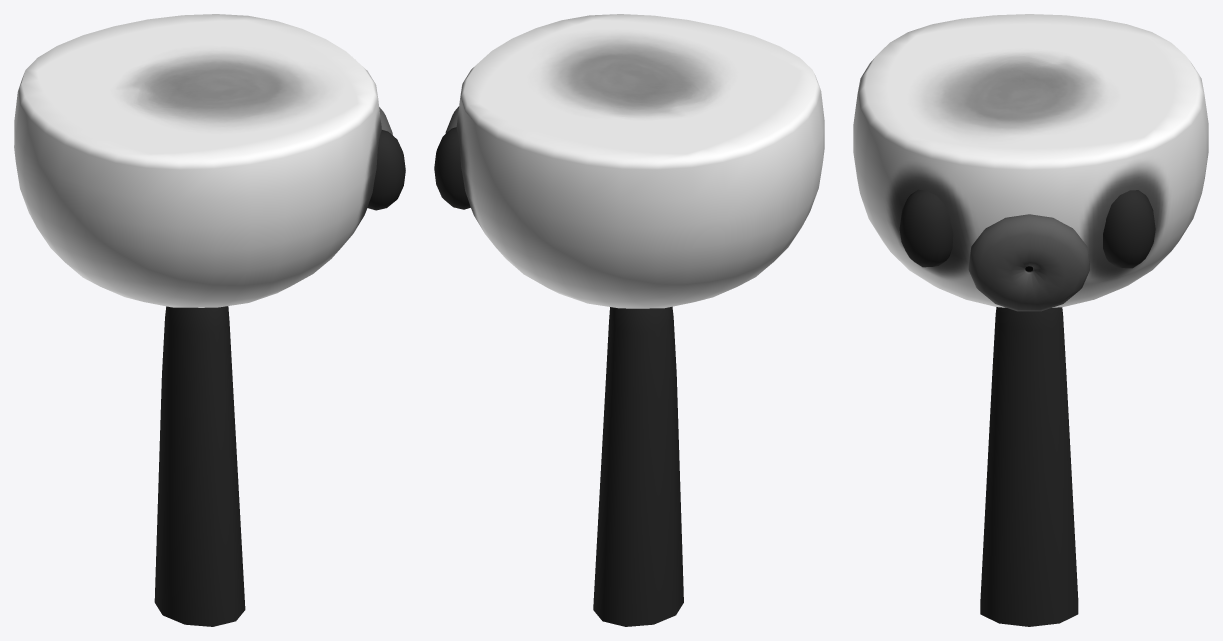
File: Head03.fbx
3 renders of one model, left to right at view 1: azimuth 30°, elevation 25°; view 2: azimuth 150°, elevation 25°; view 3: azimuth 270°, elevation 25°, orthographic.
Visible parts, largest first — view 1: Head_Geo, Body_Mat1, Eye_Right_Geo; view 2: Head_Geo, Body_Mat1, Eye_Left_Geo; view 3: Head_Geo, Body_Mat1, Lips_Geo, Eye_Right_Geo, Eye_Left_Geo.
Part boxes in pixels (bbox=[...]): Head_Geo: bbox=[14, 14, 381, 307]; Body_Mat1: bbox=[154, 306, 245, 626]; Eye_Right_Geo: bbox=[367, 130, 405, 210]; Head_Geo: bbox=[456, 14, 824, 308]; Body_Mat1: bbox=[593, 306, 683, 626]; Eye_Left_Geo: bbox=[434, 127, 470, 209]; Head_Geo: bbox=[853, 14, 1208, 307]; Body_Mat1: bbox=[980, 307, 1078, 626]; Lips_Geo: bbox=[968, 214, 1089, 311]; Eye_Right_Geo: bbox=[899, 189, 953, 267]; Eye_Left_Geo: bbox=[1103, 190, 1155, 268].
Size of the model in its own units: 65.96 by 96.36 by 59.59.
